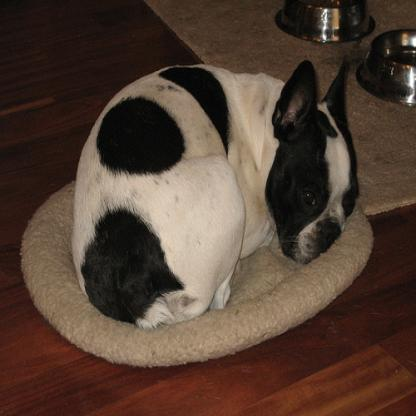French_bulldog: (72, 55, 359, 330)
